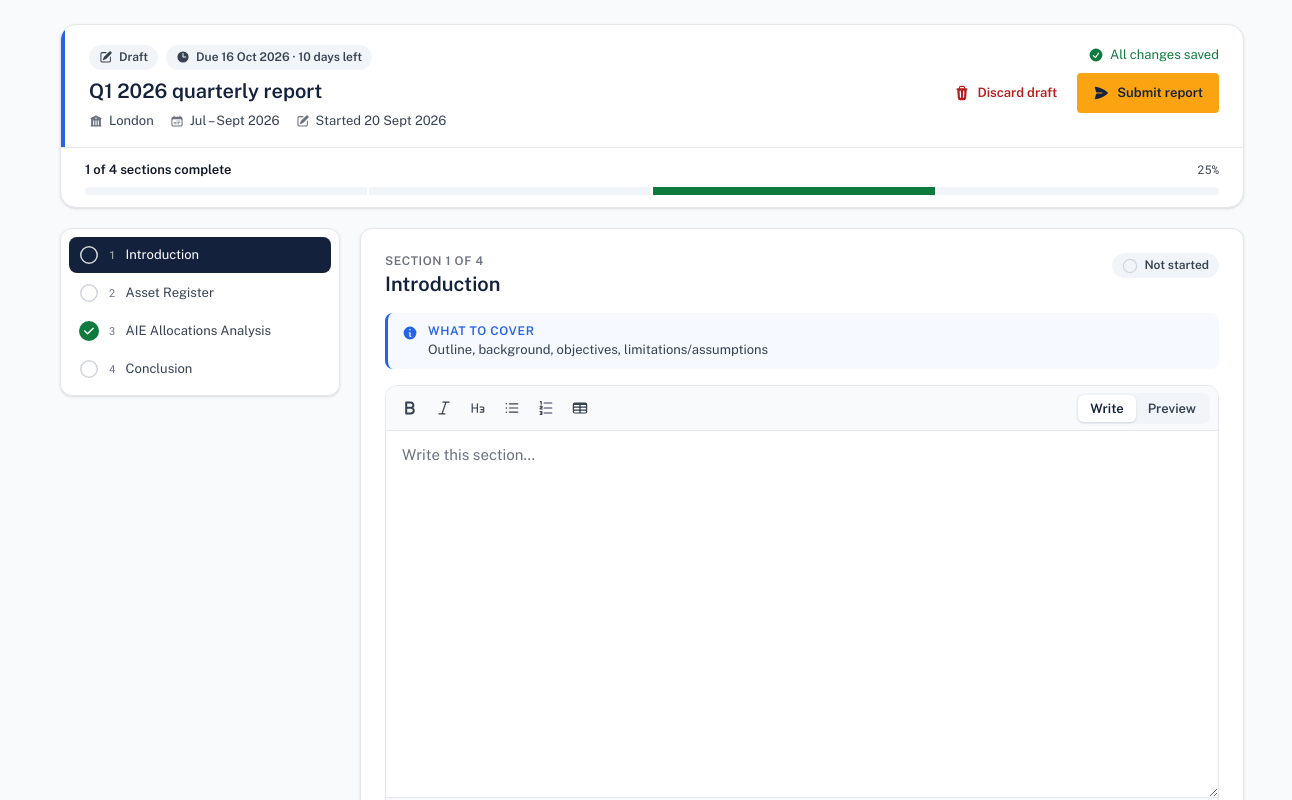
Test: ReportFormPage — the attache editor › TC-FR-RPT-006-D: a failed save keeps the text, says so, and can be retried
This screenshot has width=1292, height=800.
Type "Unsaved words" into the text box labelled "Introduction" at (802, 614), box top-left (386, 431), bottom-right (1218, 797)
(page scrolled)
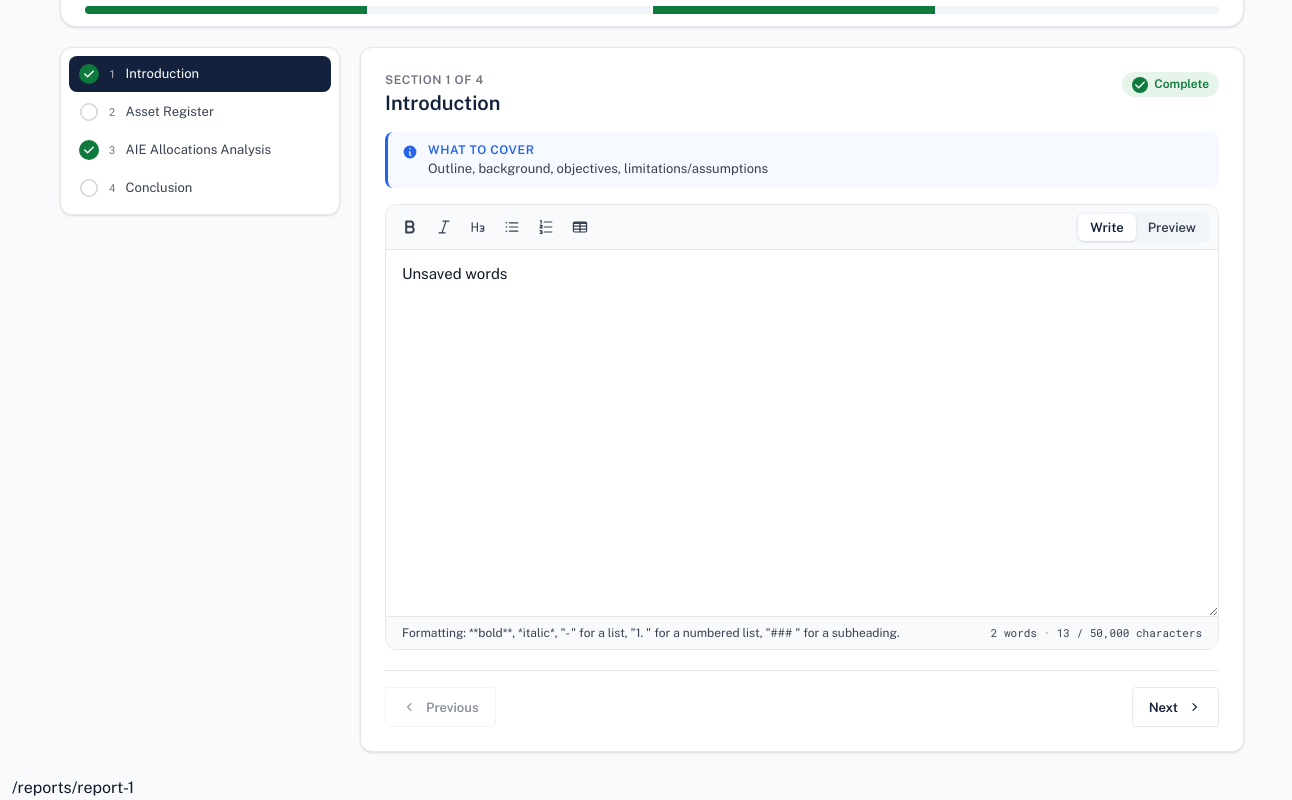
Click the button "Next" at (1175, 707), box top-left (1132, 687), bottom-right (1219, 727)
(page scrolled)
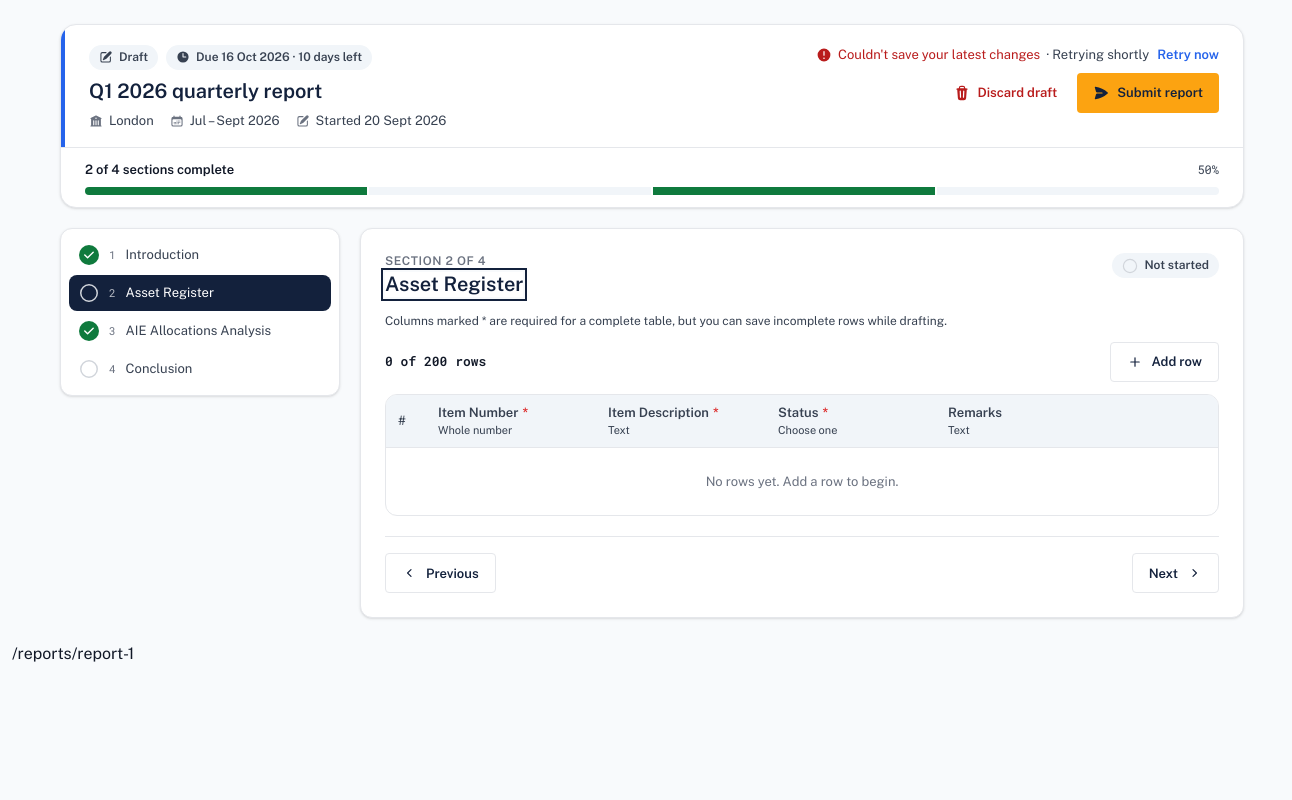
Now the text "Couldn't save your latest changes · Retrying shortly" is shown, box top-left (816, 45), bottom-right (1149, 64)
Click the button "Retry now" at (1188, 55), box top-left (1157, 45), bottom-right (1219, 64)
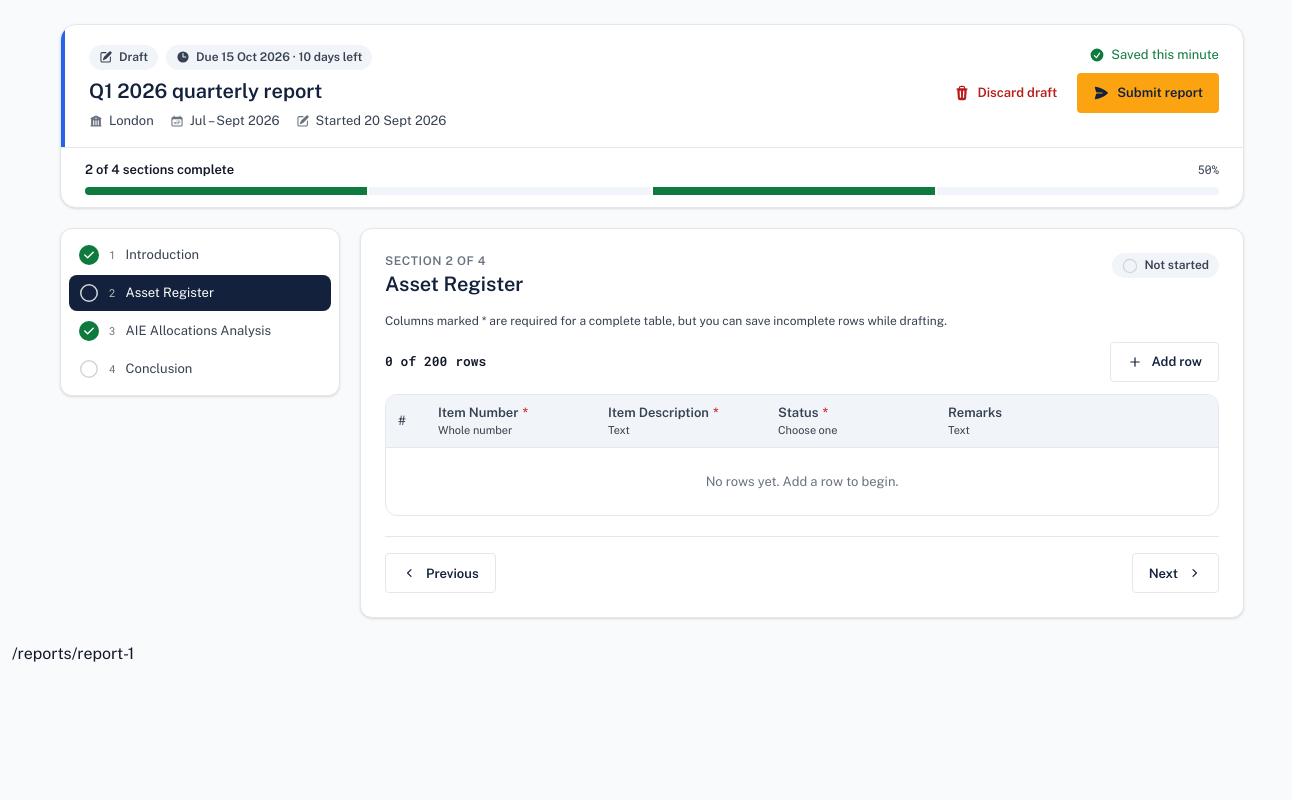
Now the message with test id "report-save-status" shows "Saved", box top-left (1111, 47), bottom-right (1219, 62)
